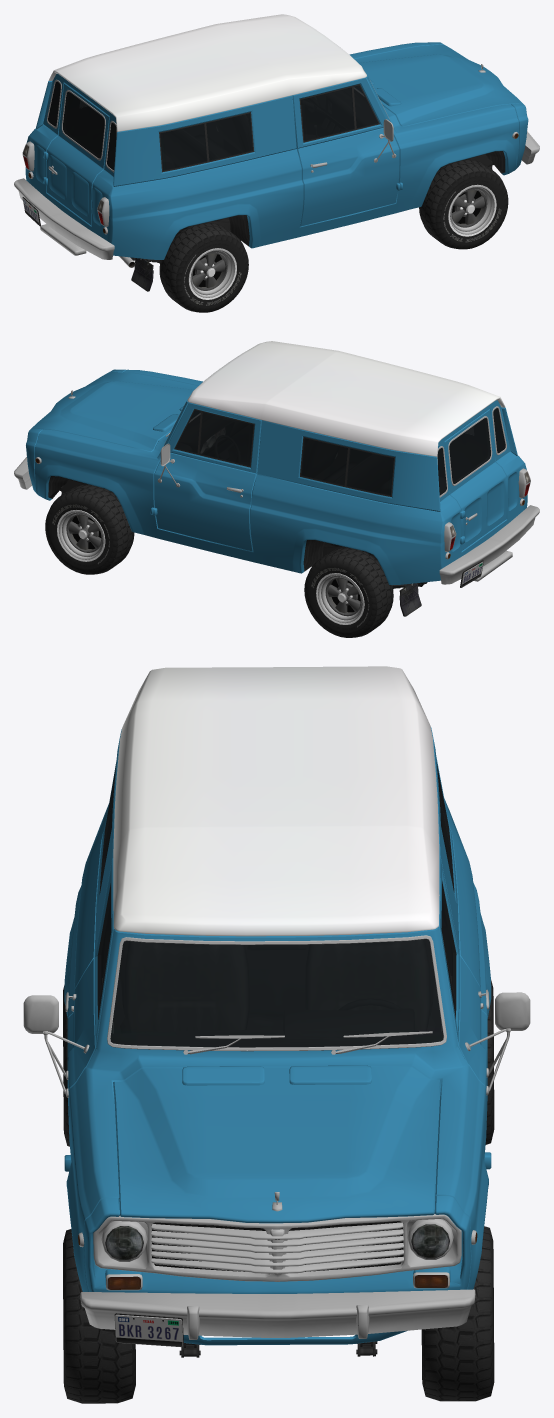
The model's file is bokaroo.glb.
3 renders of one model, top to bottom at view 1: azimuth 30°, elevation 25°; view 2: azimuth 150°, elevation 25°; view 3: azimuth 270°, elevation 25°, orthographic. The views are drawn at different scales.
Visible parts, largest first — view 1: Bokaroo67_Body_BUCKAROO_67_Bodymat_0, Bokaroo67_Bottom_UCB_BOTTOM_0, Bokaroo67_Hood_BUCKAROO_67_Bodymat_0, Bokaroo67_Interior_UCB_Interiors_2_0, Bokaroo67_WheelStock_RR_RO1a_Tire_0, Bokaroo67_WheelStock_FR_RO1a_Tire_0, Bokaroo67_Bodyglass_UCB_Lights_and_Glass_Transperent_0, Bokaroo67_Bumper_rear_UCB_BOTTOM_0, Bokaroo67_Glass_Passenger_UCB_Lights_and_Glass_Transperent_0, Bokaroo67_rear_door_glass_UCB_Lights_and_Glass_Transperent_0, Bokaroo67_rear_door_inner_UCB_BOTTOM_0; view 2: Bokaroo67_Body_BUCKAROO_67_Bodymat_0, Bokaroo67_Bottom_UCB_BOTTOM_0, Bokaroo67_Hood_BUCKAROO_67_Bodymat_0, Bokaroo67_Interior_UCB_Interiors_2_0, Bokaroo67_WheelStock_RL_RO1a_Tire_0, Bokaroo67_WheelStock_FL_RO1a_Tire_0, Bokaroo67_Bodyglass_UCB_Lights_and_Glass_Transperent_0, Bokaroo67_Bumper_rear_UCB_BOTTOM_0, Bokaroo67_Glass_Driver_UCB_Lights_and_Glass_Transperent_0, Bokaroo67_rear_door_glass_UCB_Lights_and_Glass_Transperent_0, Bokaroo67_rear_door_inner_UCB_BOTTOM_0; view 3: Bokaroo67_Bottom_UCB_BOTTOM_0, Bokaroo67_Body_BUCKAROO_67_Bodymat_0, Bokaroo67_Hood_BUCKAROO_67_Bodymat_0, Bokaroo67_Windshield_UCB_Lights_and_Glass_Transperent_0, Bokaroo67_Interior_UCB_Interiors_2_0, Bokaroo67_Bumper_Front_UCB_BOTTOM_0, Bokaroo67_WheelStock_FL_RO1a_Tire_0, Bokaroo67_WheelStock_FR_RO1a_Tire_0, Bokaroo67_Headlight_Glass_UCB_Lights_and_Glass_0, Bokaroo67_Numberplate_Front_Numberplates_Misk_U_0, Bokaroo67_Bodyglass_UCB_Lights_and_Glass_Transperent_0, Bokaroo67_WheelStock_RL_RO1a_Tire_0.
Boxes of the visible parts, x1,y1,x2,y2 form: Bokaroo67_Body_BUCKAROO_67_Bodymat_0: (25, 42, 528, 259); Bokaroo67_Bottom_UCB_BOTTOM_0: (22, 14, 518, 291); Bokaroo67_Hood_BUCKAROO_67_Bodymat_0: (354, 44, 522, 126); Bokaroo67_Interior_UCB_Interiors_2_0: (48, 82, 376, 169); Bokaroo67_WheelStock_RR_RO1a_Tire_0: (159, 222, 248, 312); Bokaroo67_WheelStock_FR_RO1a_Tire_0: (419, 159, 508, 249); Bokaroo67_Bodyglass_UCB_Lights_and_Glass_Transperent_0: (48, 81, 378, 170); Bokaroo67_Bumper_rear_UCB_BOTTOM_0: (14, 178, 114, 259); Bokaroo67_Glass_Passenger_UCB_Lights_and_Glass_Transperent_0: (300, 87, 354, 141); Bokaroo67_rear_door_glass_UCB_Lights_and_Glass_Transperent_0: (63, 92, 104, 158); Bokaroo67_rear_door_inner_UCB_BOTTOM_0: (48, 90, 105, 174); Bokaroo67_Body_BUCKAROO_67_Bodymat_0: (26, 369, 527, 585); Bokaroo67_Bottom_UCB_BOTTOM_0: (35, 341, 530, 616); Bokaroo67_Hood_BUCKAROO_67_Bodymat_0: (32, 371, 197, 451); Bokaroo67_Interior_UCB_Interiors_2_0: (177, 408, 504, 494); Bokaroo67_WheelStock_RL_RO1a_Tire_0: (304, 548, 393, 637); Bokaroo67_WheelStock_FL_RO1a_Tire_0: (45, 484, 134, 574); Bokaroo67_Bodyglass_UCB_Lights_and_Glass_Transperent_0: (176, 408, 505, 495); Bokaroo67_Bumper_rear_UCB_BOTTOM_0: (439, 505, 539, 587); Bokaroo67_Glass_Driver_UCB_Lights_and_Glass_Transperent_0: (199, 412, 253, 466); Bokaroo67_rear_door_glass_UCB_Lights_and_Glass_Transperent_0: (449, 418, 490, 483); Bokaroo67_rear_door_inner_UCB_BOTTOM_0: (448, 416, 492, 525); Bokaroo67_Bottom_UCB_BOTTOM_0: (23, 666, 530, 1290); Bokaroo67_Body_BUCKAROO_67_Bodymat_0: (64, 727, 491, 1345); Bokaroo67_Hood_BUCKAROO_67_Bodymat_0: (113, 1065, 441, 1223); Bokaroo67_Windshield_UCB_Lights_and_Glass_Transperent_0: (110, 939, 443, 1047); Bokaroo67_Interior_UCB_Interiors_2_0: (102, 822, 452, 1046); Bokaroo67_Bumper_Front_UCB_BOTTOM_0: (80, 1289, 475, 1345); Bokaroo67_WheelStock_FL_RO1a_Tire_0: (421, 1226, 494, 1401); Bokaroo67_WheelStock_FR_RO1a_Tire_0: (63, 1229, 135, 1403); Bokaroo67_Headlight_Glass_UCB_Lights_and_Glass_0: (105, 1224, 449, 1260); Bokaroo67_Numberplate_Front_Numberplates_Misk_U_0: (114, 1314, 183, 1347); Bokaroo67_Bodyglass_UCB_Lights_and_Glass_Transperent_0: (98, 762, 455, 1016); Bokaroo67_WheelStock_RL_RO1a_Tire_0: (485, 980, 494, 1144).
Size of the model in its own units: 4.59 by 1.96 by 2.21.
7 materials, 6 textured.
